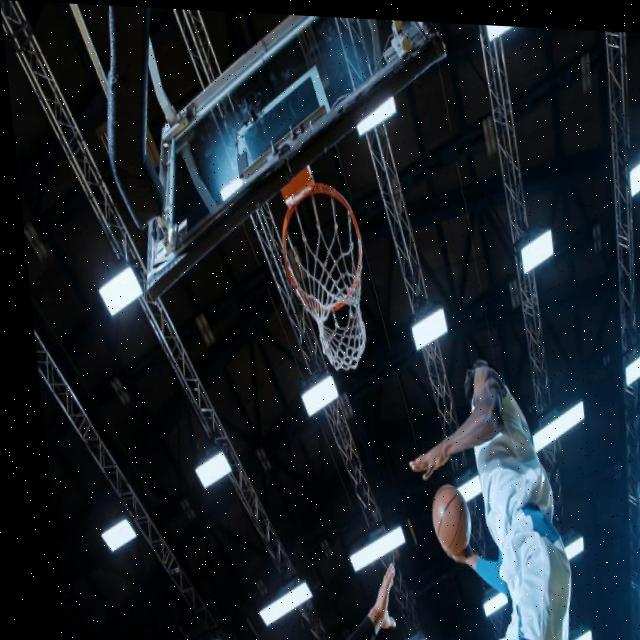basketball: (429, 483, 474, 556)
hoop: (275, 182, 375, 373)
